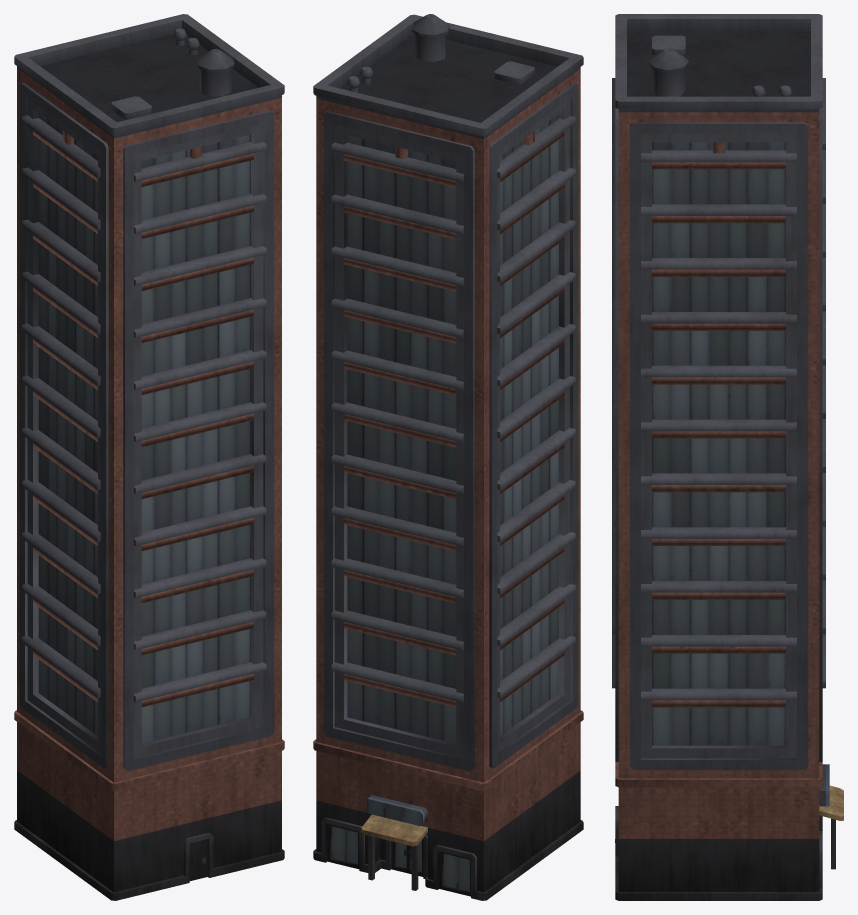
Rendered from building-skyscraper-d-brown.glb.
3 views of the same model, side by side, from view 1: azimuth 30°, elevation 25°; view 2: azimuth 150°, elevation 25°; view 3: azimuth 270°, elevation 25° (orthographic). The views are drawn at different scales.
Visible parts, largest first — view 1: building-skyscraper-d; view 2: building-skyscraper-d; view 3: building-skyscraper-d.
Boxes of the visible parts, x1,y1,x2,y2 form: building-skyscraper-d: [14, 14, 284, 900]; building-skyscraper-d: [313, 14, 583, 900]; building-skyscraper-d: [612, 14, 843, 900].
Size of the model in its own units: 1.28 by 5.47 by 1.39.
Materials: 1 (1 with a texture image).
